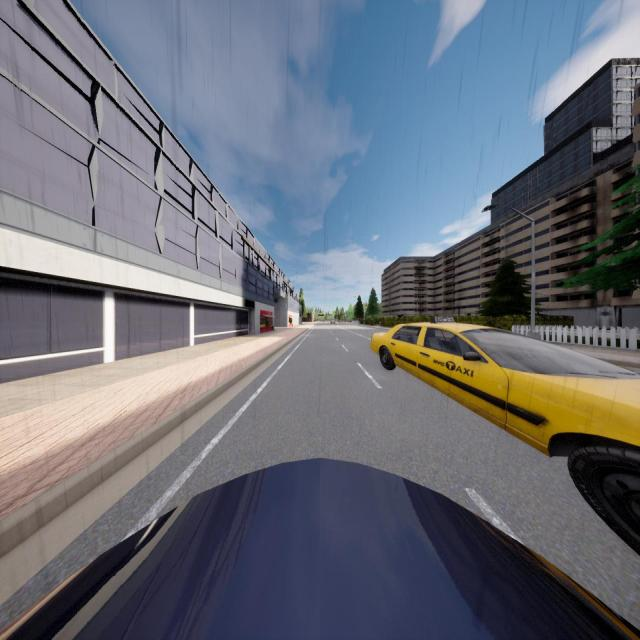Vehicle: (0, 454, 640, 640), (372, 322, 639, 556), (330, 318, 336, 325), (347, 319, 352, 323)
